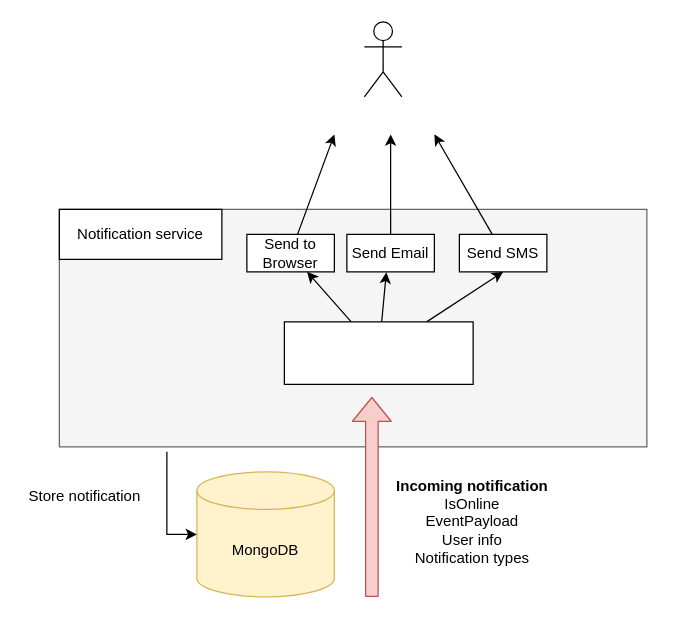
The diagram is 679 pixels wide and 619 high, and some of its shapes have lost their labels. Here are the shapes that lost their labels. From the top down, the centre of each, then its label:
point 382,59: User
point 378,352: Check notification types
